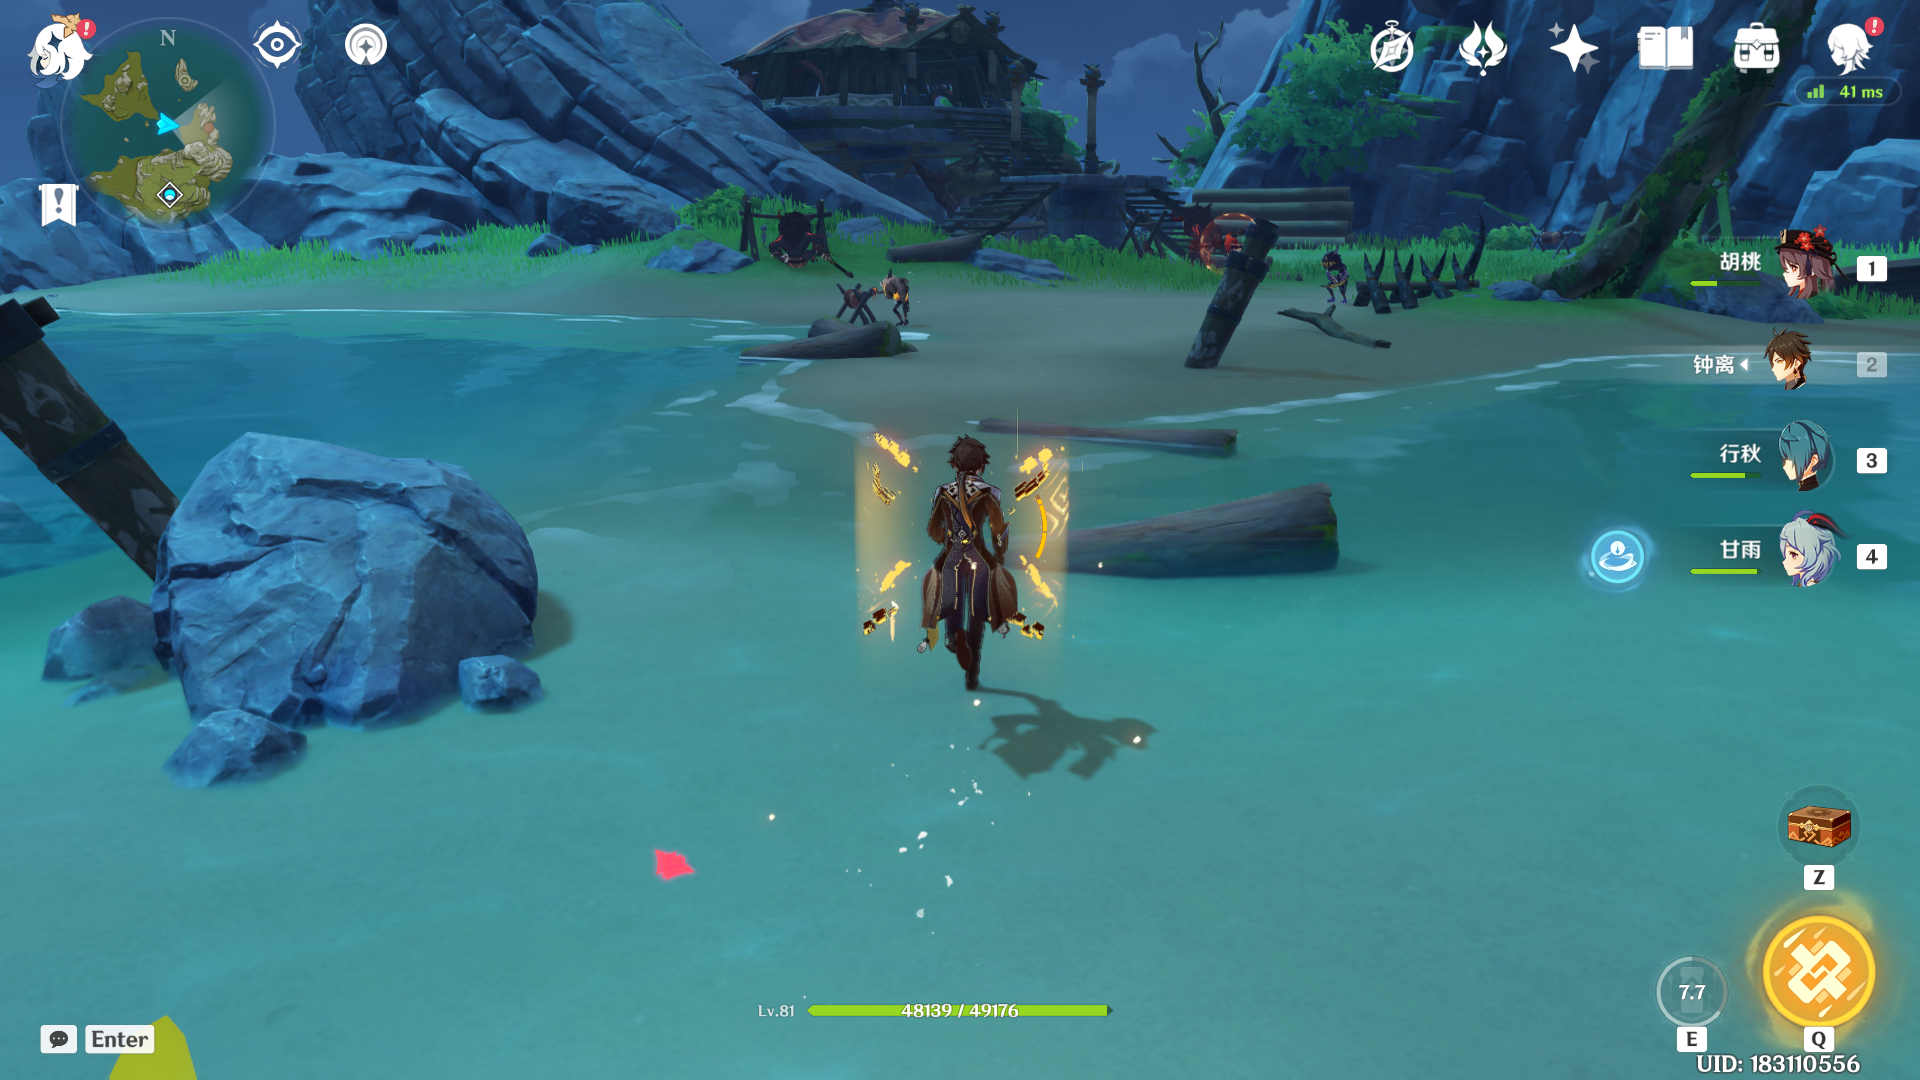character: (876, 396, 1113, 735)
hili: (1308, 241, 1375, 320), (861, 256, 922, 323)
